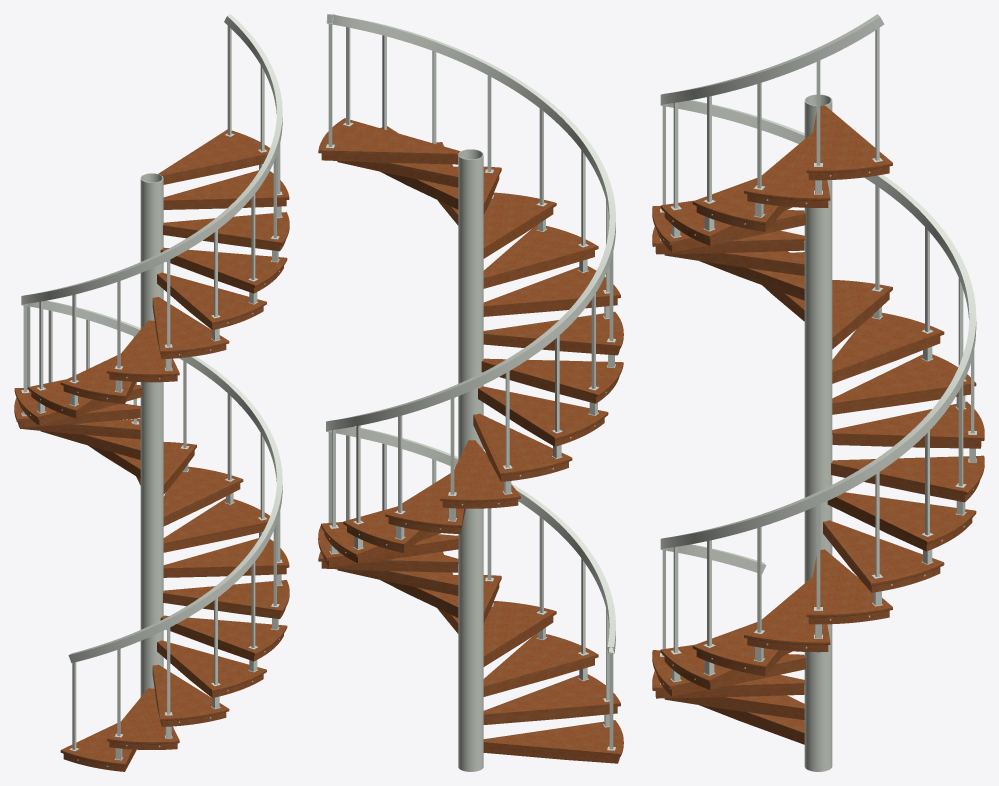
Rendered from spiral-stair.glb.
3 views of the same model, side by side, from view 1: azimuth 30°, elevation 25°; view 2: azimuth 150°, elevation 25°; view 3: azimuth 270°, elevation 25° (orthographic). The views are drawn at different scales.
Visible parts, largest first — view 1: 木踏板及木封边, 螺旋矩管扶手及方钢栏杆, 中心空心套管, 跨级套管法兰螺帽; view 2: 木踏板及木封边, 螺旋矩管扶手及方钢栏杆, 中心空心套管, 跨级套管法兰螺帽; view 3: 木踏板及木封边, 螺旋矩管扶手及方钢栏杆, 中心空心套管, 跨级套管法兰螺帽.
Part boxes in pixels (box(x1,y1,x2,y2)): 木踏板及木封边: box(14, 129, 289, 771); 螺旋矩管扶手及方钢栏杆: box(21, 14, 282, 749); 中心空心套管: box(140, 173, 163, 696); 跨级套管法兰螺帽: box(21, 133, 282, 760); 木踏板及木封边: box(318, 118, 623, 763); 螺旋矩管扶手及方钢栏杆: box(326, 14, 615, 749); 中心空心套管: box(458, 149, 483, 771); 跨级套管法兰螺帽: box(326, 122, 615, 750); 木踏板及木封边: box(652, 105, 984, 744); 螺旋矩管扶手及方钢栏杆: box(660, 14, 976, 655); 中心空心套管: box(804, 94, 832, 771); 跨级套管法兰螺帽: box(660, 157, 976, 684).
Bounding box in the file's own units: 1.9 × 5.11 × 1.9.
2 materials, 1 textured.
